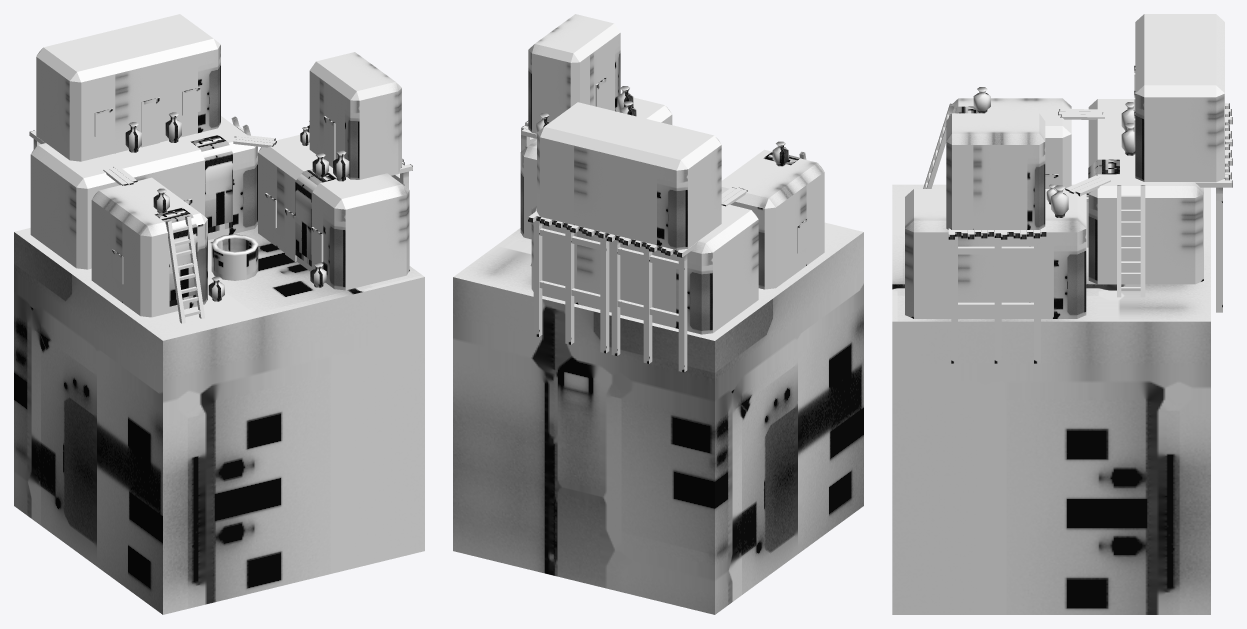
Rendered from civic_center_hopi.dae.
3 views of the same model, side by side, from view 1: azimuth 30°, elevation 25°; view 2: azimuth 150°, elevation 25°; view 3: azimuth 270°, elevation 25° (orthographic). The views are drawn at different scales.
Visible parts, largest first — view 1: CC; view 2: CC; view 3: CC.
Boxes of the visible parts, box(x1,y1,x2,y2) form: CC: box(14, 14, 424, 614); CC: box(453, 14, 863, 614); CC: box(892, 14, 1232, 614).
Size of the model in its own units: 30.69 by 30.58 by 47.64.
